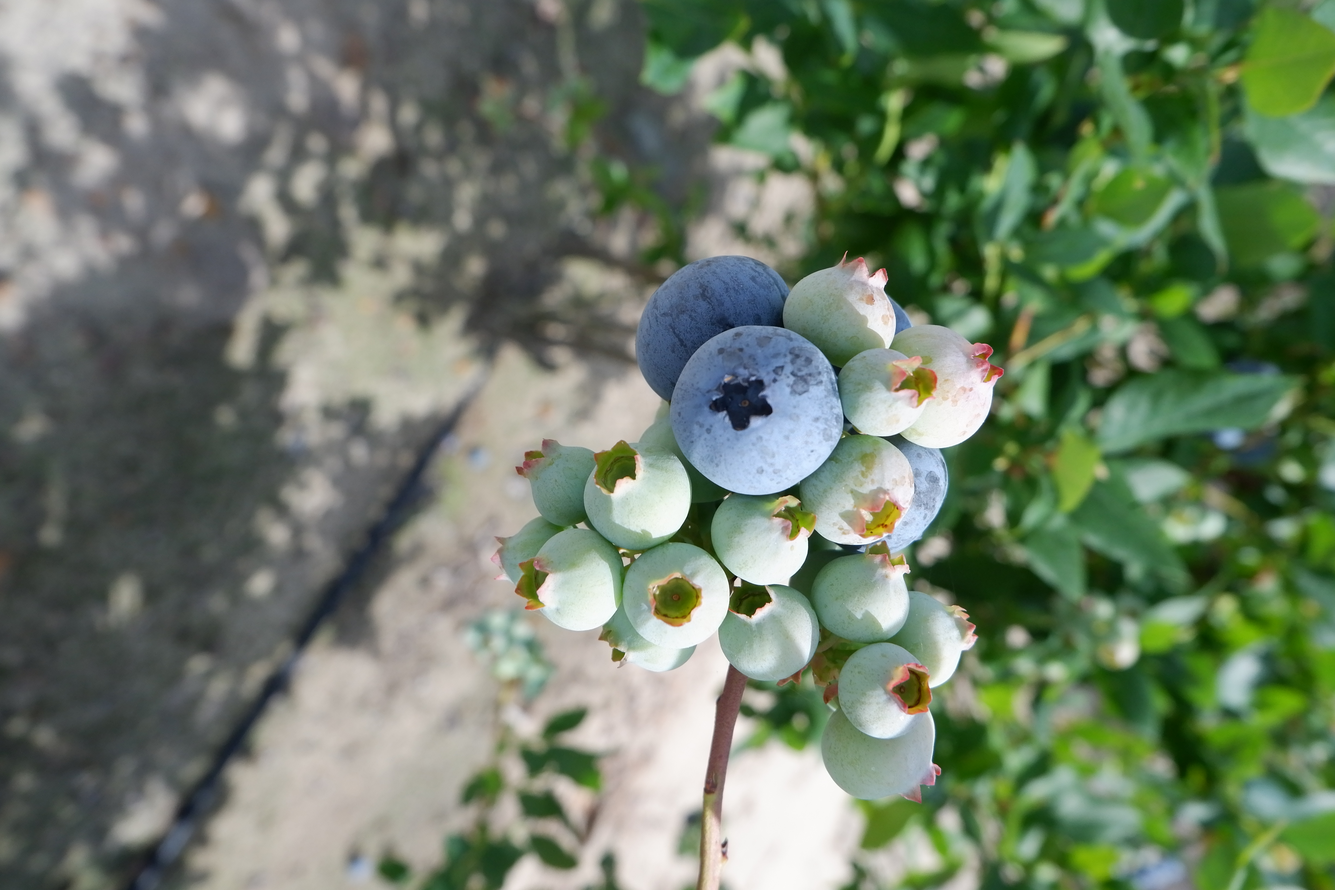Immature: (895, 329, 999, 445), (787, 257, 895, 365), (801, 437, 910, 544), (587, 445, 689, 547), (626, 545, 727, 645), (520, 530, 620, 630), (825, 714, 934, 800), (721, 588, 817, 679), (839, 645, 929, 737), (814, 554, 908, 642), (639, 415, 733, 503), (713, 496, 808, 582), (842, 351, 930, 435), (894, 595, 973, 686), (521, 442, 594, 527), (603, 609, 694, 671), (492, 519, 557, 583)
Mature: (673, 327, 839, 491), (637, 259, 786, 395), (887, 436, 947, 551), (889, 295, 912, 336)
